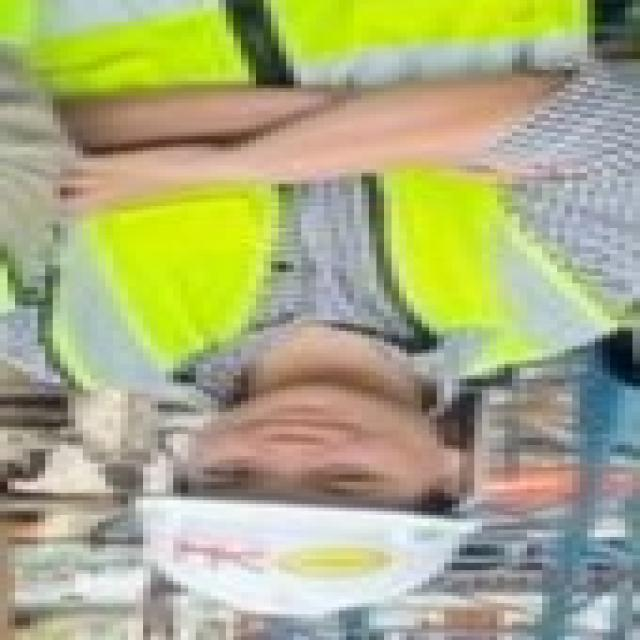safetyhelmet: (103, 421, 490, 622)
